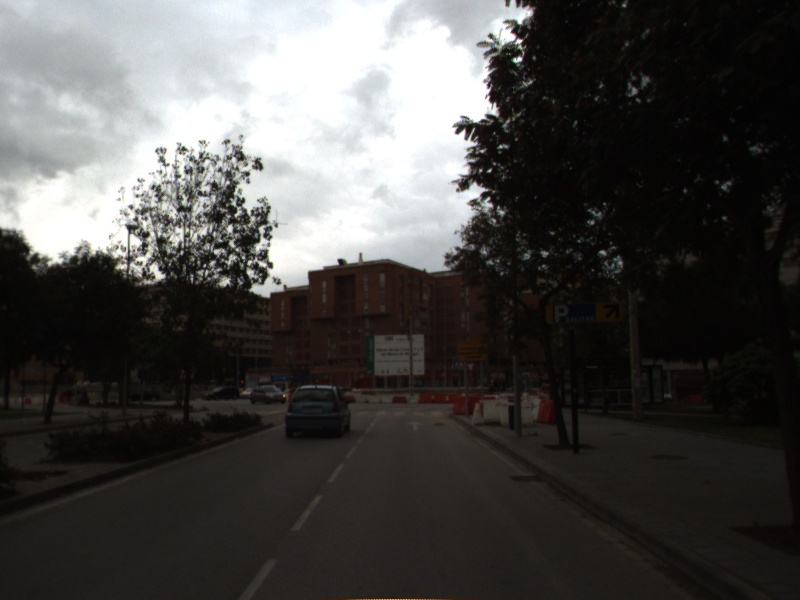STRAIGHT: (404, 419, 426, 433)
